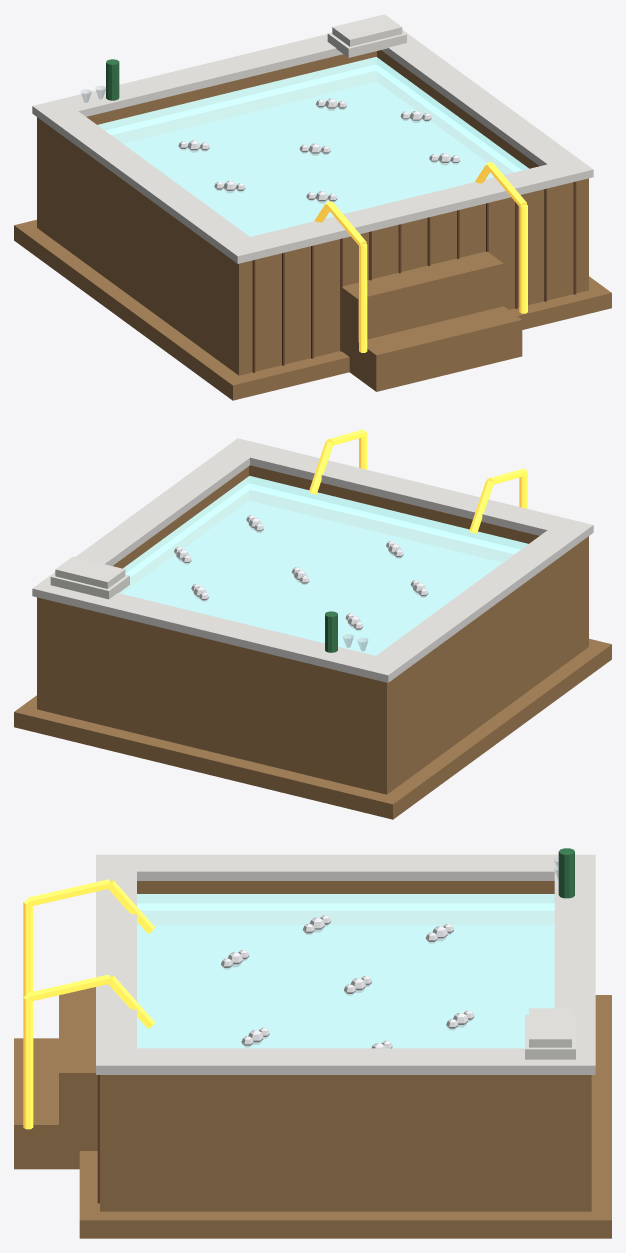
File: lux_hot_tub.glb
3 renders of one model, top to bottom at view 1: azimuth 30°, elevation 25°; view 2: azimuth 150°, elevation 25°; view 3: azimuth 270°, elevation 25°, orthographic. The views are drawn at different scales.
Visible parts, largest first — view 1: lux_hot_tub; view 2: lux_hot_tub; view 3: lux_hot_tub.
Boxes of the visible parts, x1,y1,x2,y2 form: lux_hot_tub: [14, 14, 611, 400]; lux_hot_tub: [14, 429, 611, 819]; lux_hot_tub: [14, 848, 611, 1238].
Bounding box in the file's own units: 2.6 × 1.13 × 2.92.
